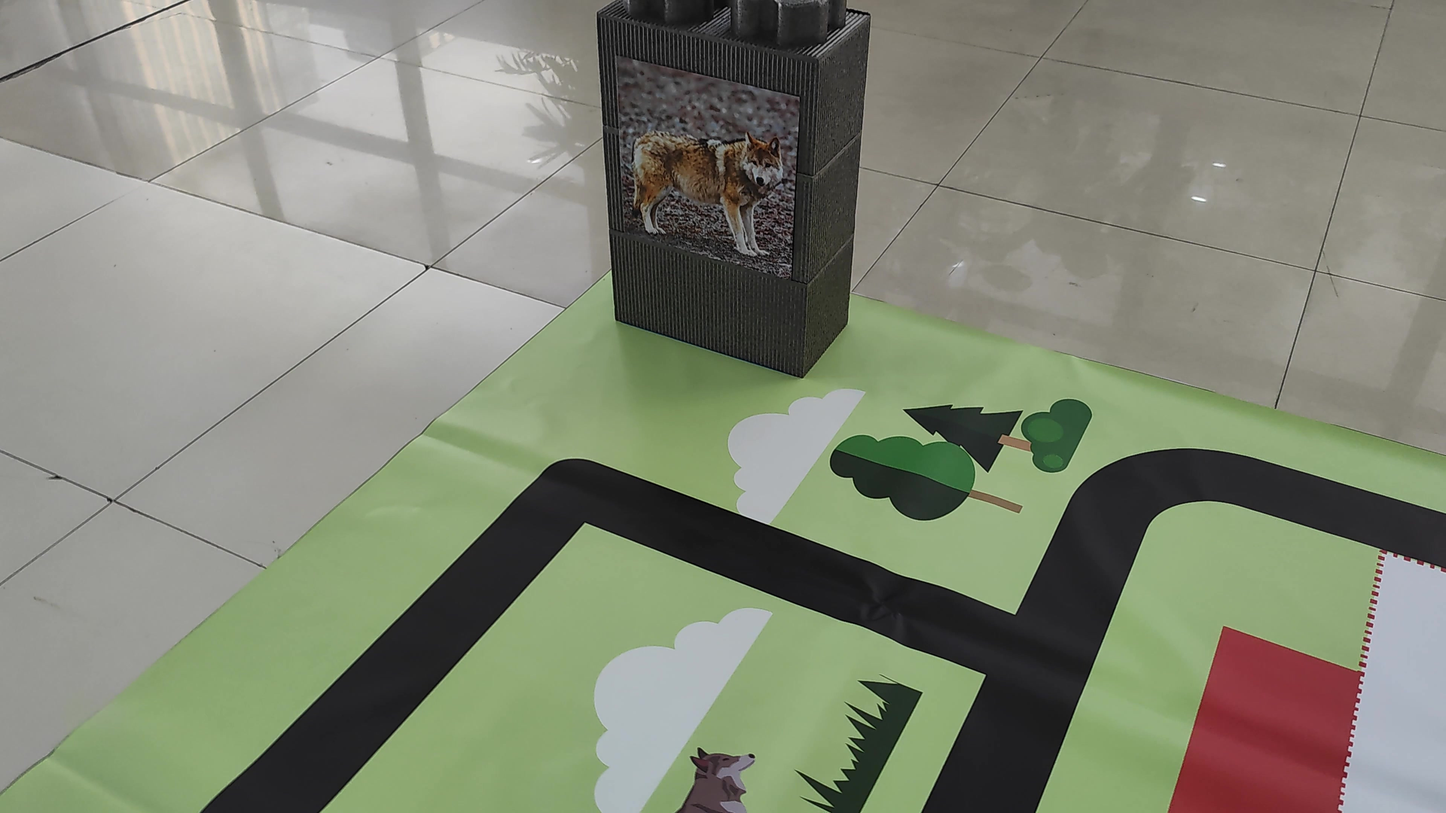wolf: (624, 108, 793, 276)
